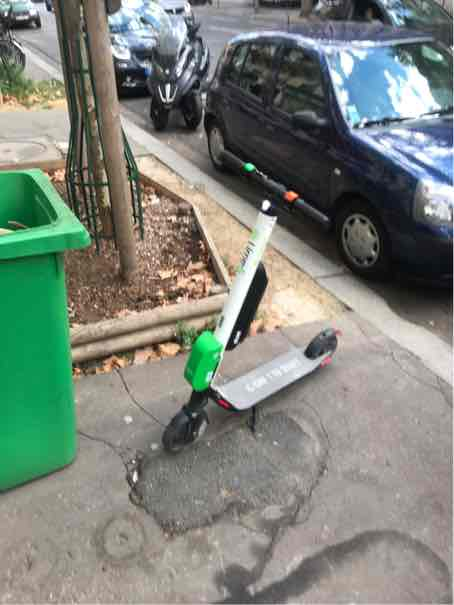scooter: (167, 146, 361, 466)
